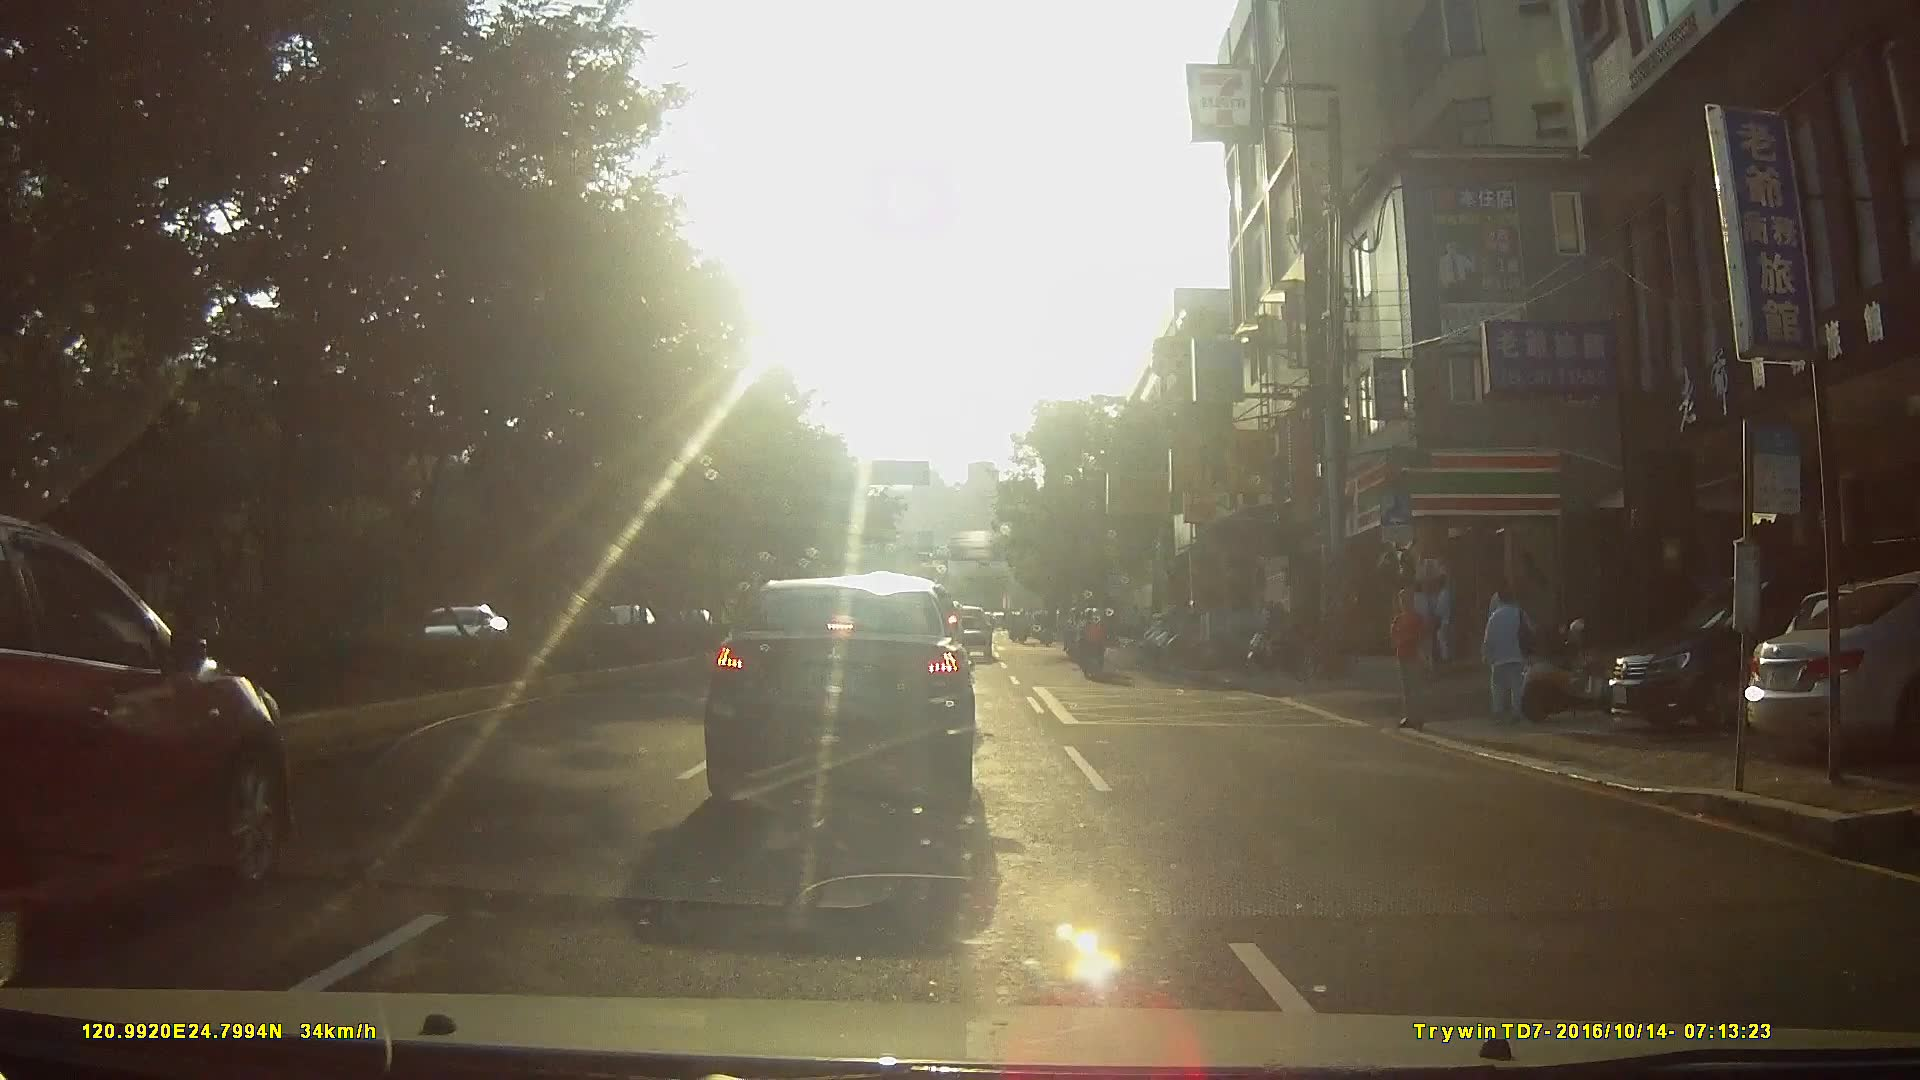pedestrian: (1474, 585, 1536, 725), (1392, 589, 1431, 734)
rider: (1074, 604, 1112, 681), (1062, 606, 1087, 659)
vehicle: (1, 506, 299, 955), (700, 574, 990, 777), (1598, 558, 1916, 740), (1734, 574, 1920, 766)
